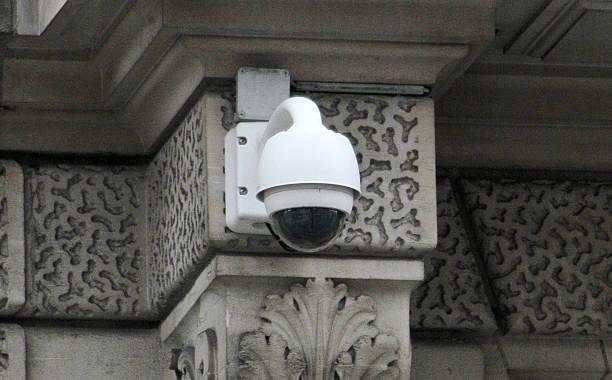camera: (240, 77, 371, 275)
